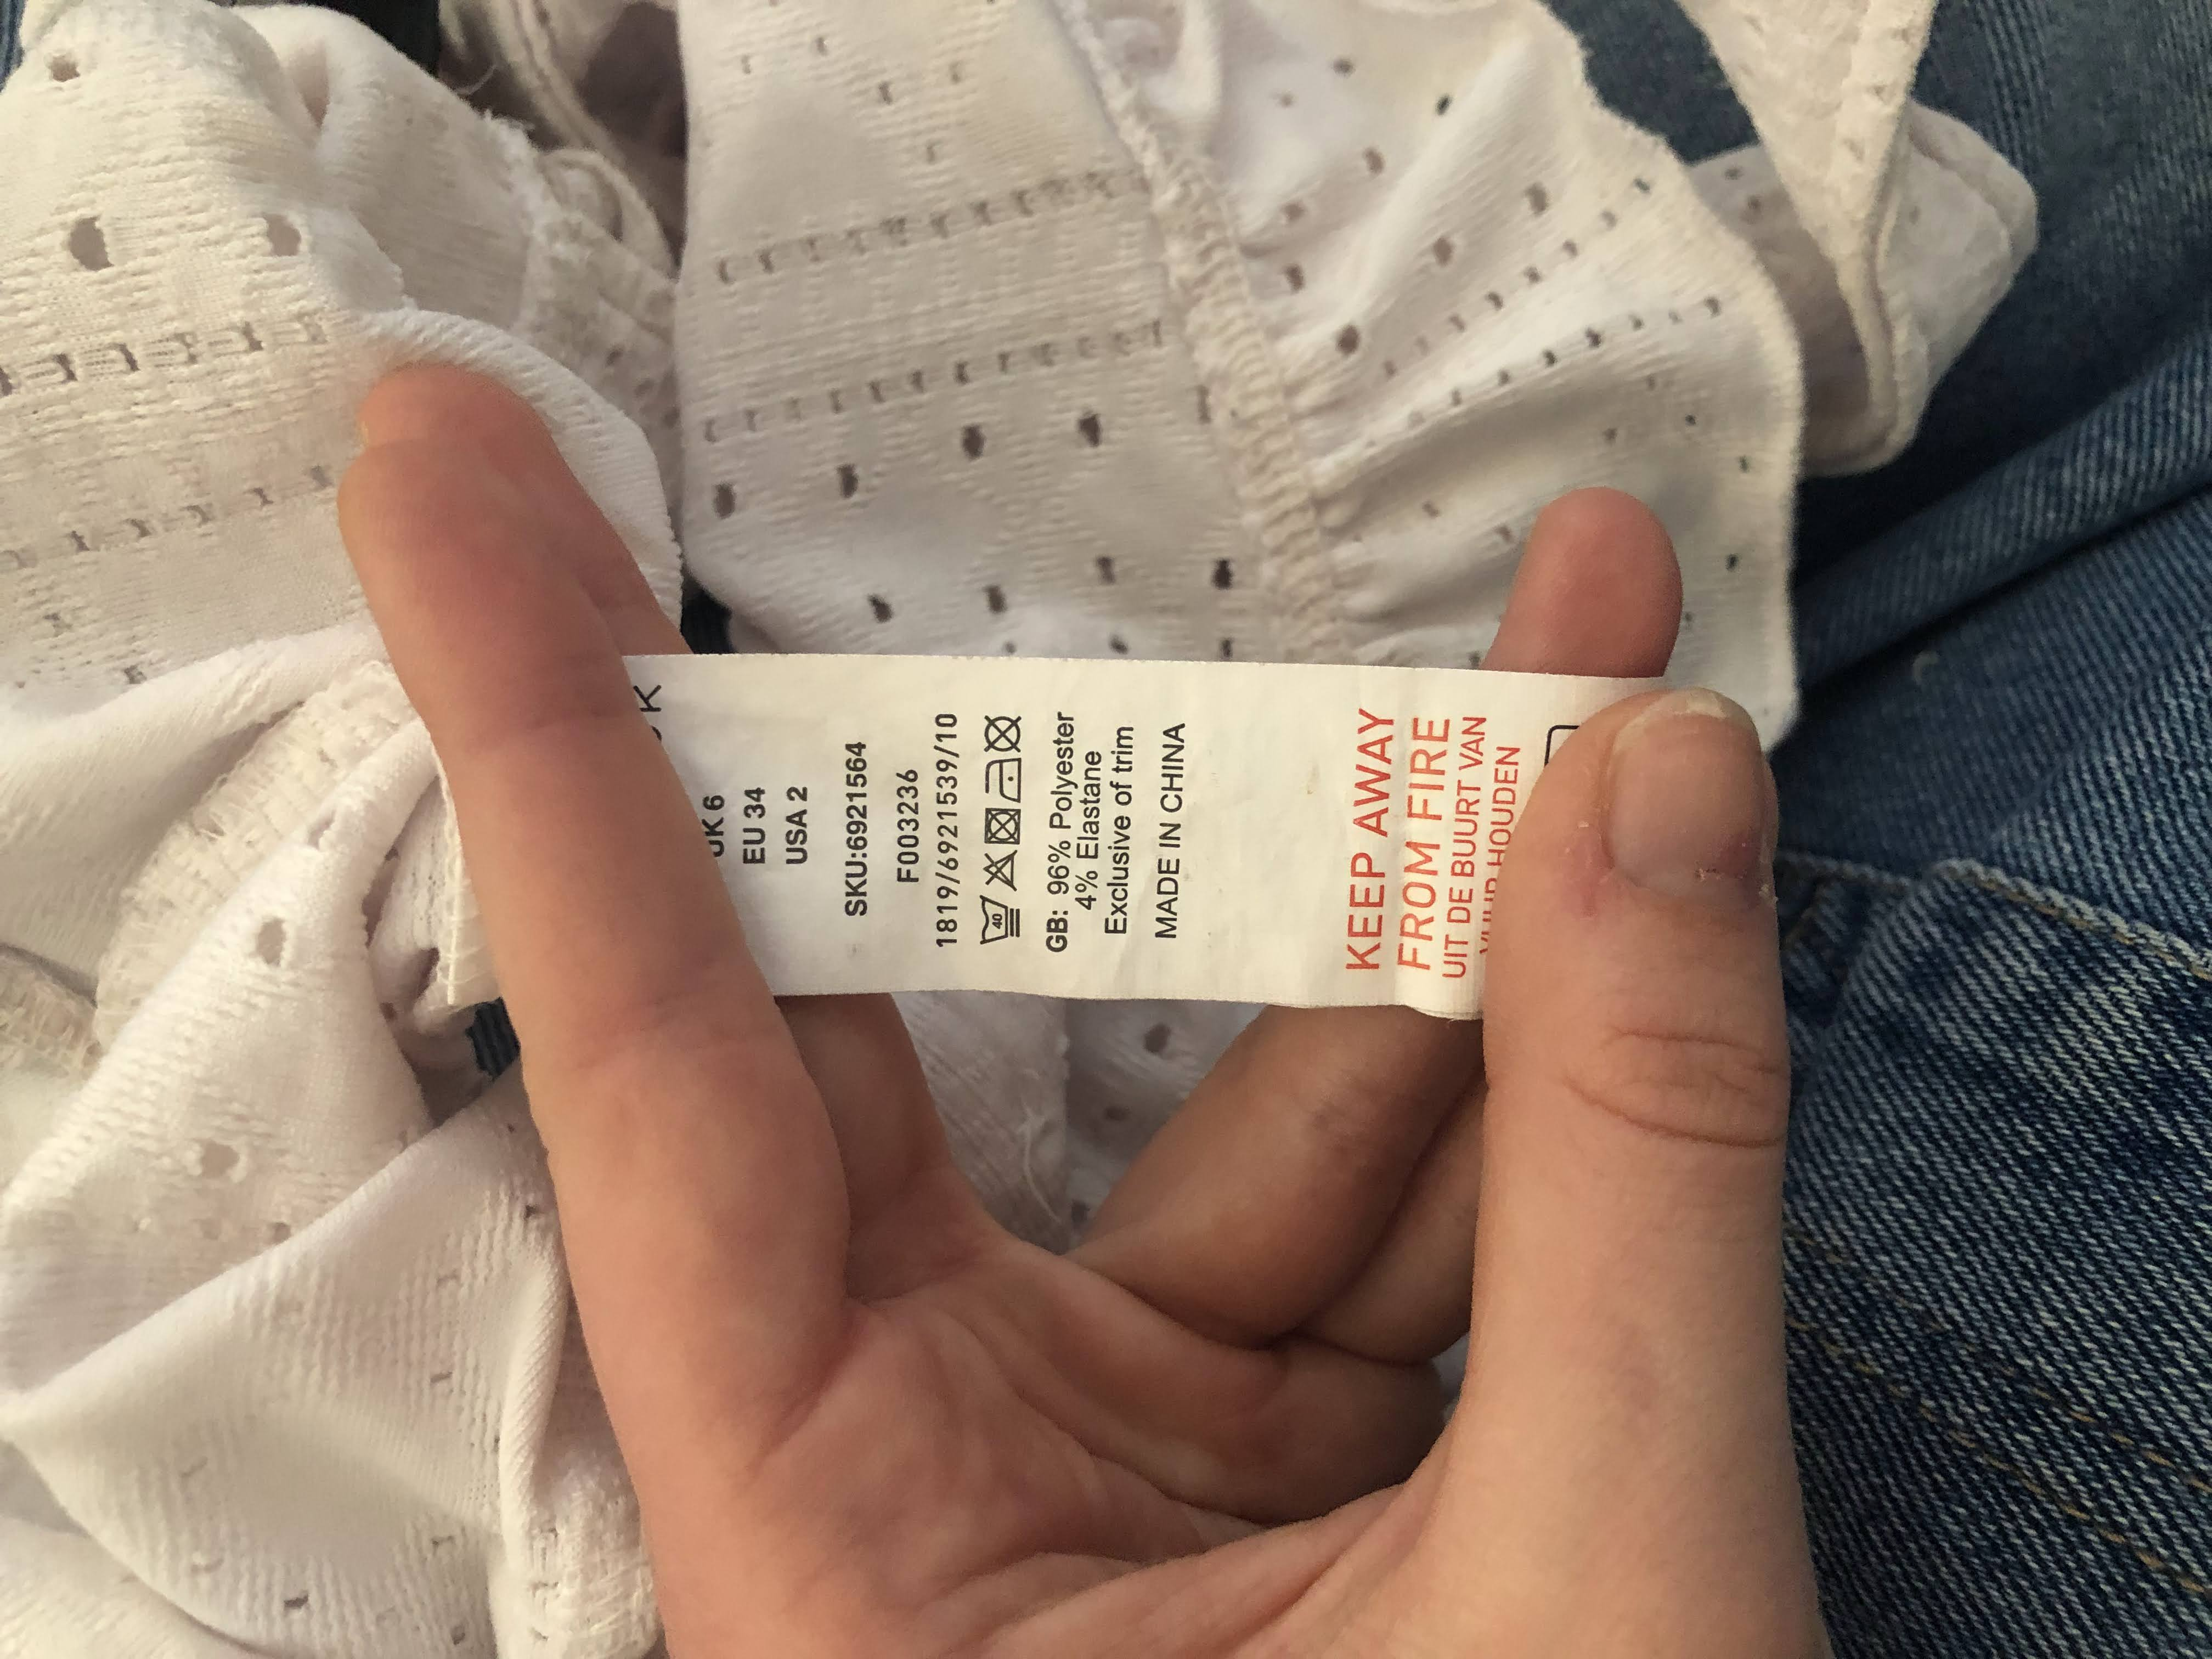do not bleach: (968, 842, 1031, 897)
do not dry clean: (977, 708, 1047, 751)
do not tumble dry: (977, 810, 1031, 843)
iron low temp: (975, 756, 1028, 802)
wash at or below 40: (970, 894, 1024, 955)
